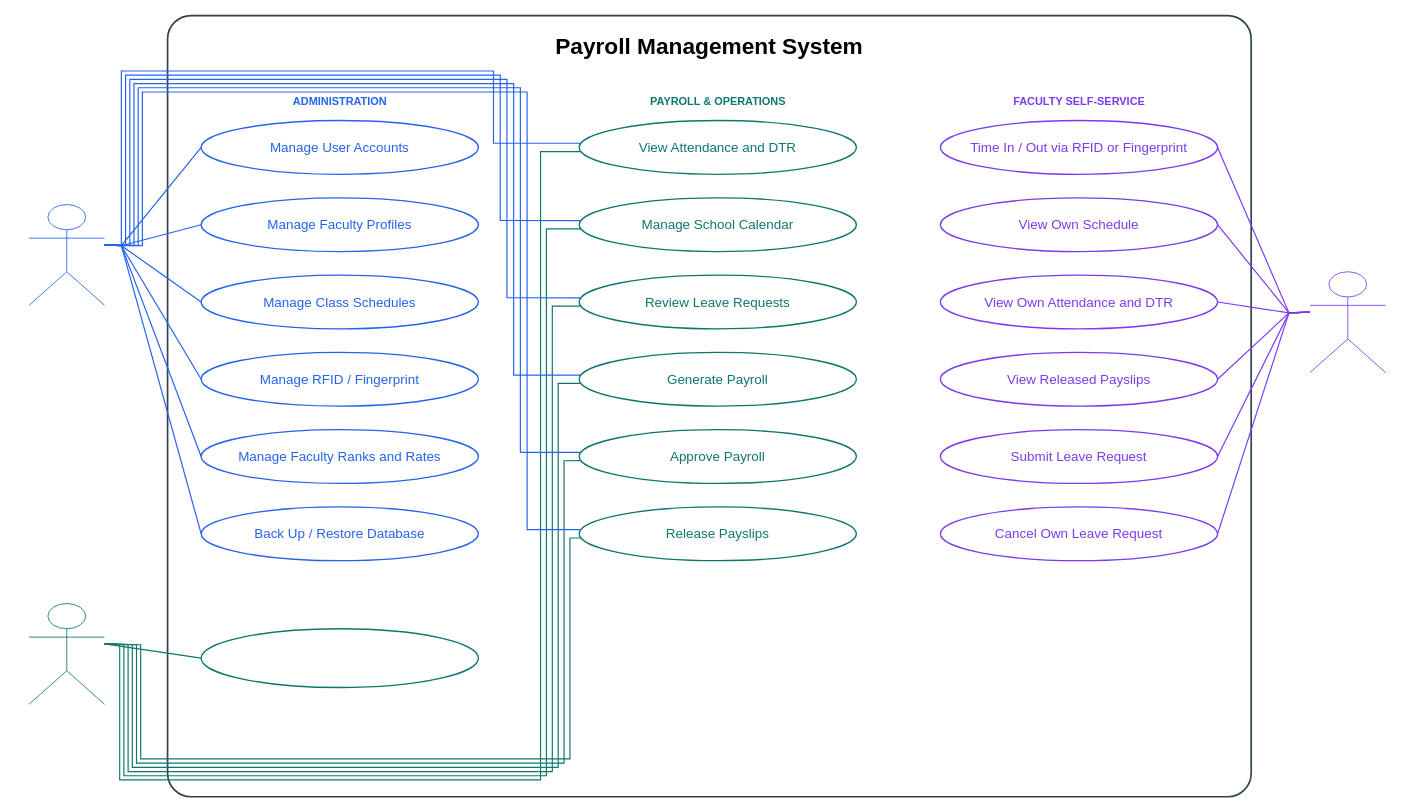
Image size: 1410x811. Some labels were removed from this diagram. The shapes that lost their labels are listed below. From the top down, each one's box as (x1, y1, x2, y2) in pixels, then its label:
(28, 204, 105, 305): Administrator
(1309, 271, 1386, 373): COS Faculty
(28, 603, 105, 704): Payroll Staff
(200, 628, 479, 688): Record / Correct Manual Attendance
